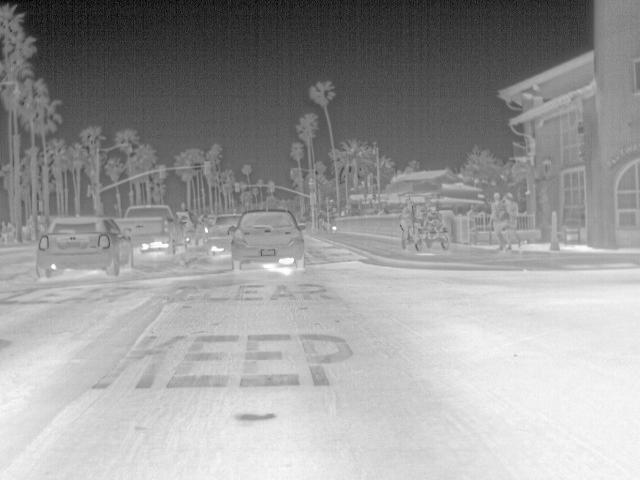car: (34, 214, 135, 276), (224, 208, 305, 270), (121, 200, 182, 248), (204, 211, 244, 252), (174, 209, 200, 247)
person: (488, 192, 510, 250), (502, 191, 521, 247), (398, 198, 415, 246), (425, 205, 441, 227)
